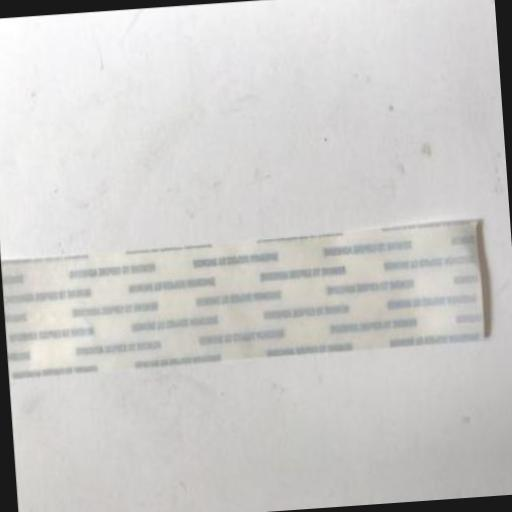paper: (0, 217, 486, 376)
